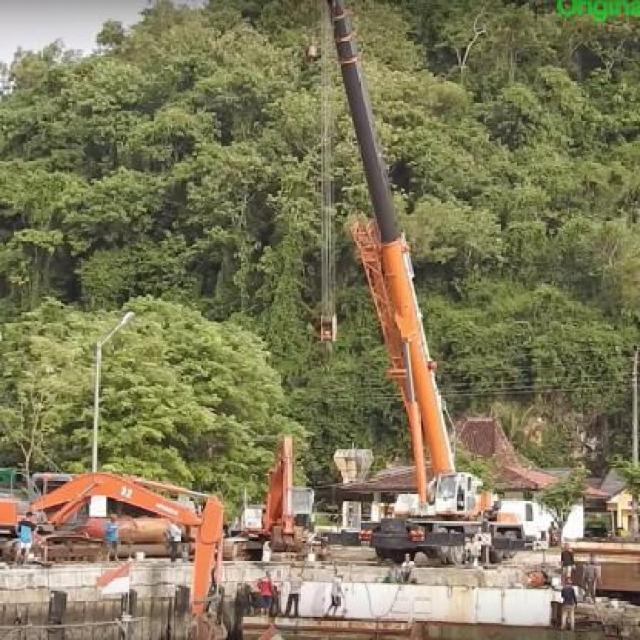Excavator: (0, 471, 222, 638), (224, 436, 319, 561)
Mobile Crane: (314, 0, 543, 565)
